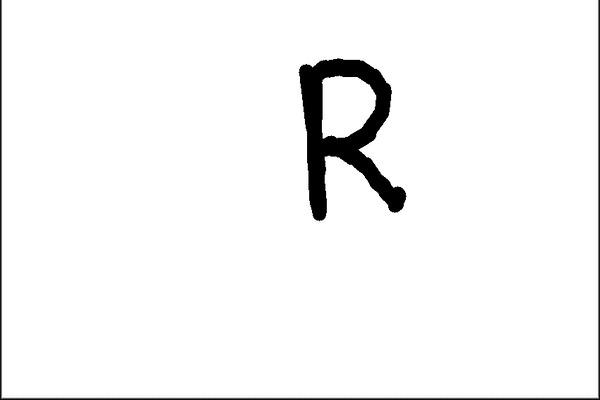R: (282, 45, 423, 227)
